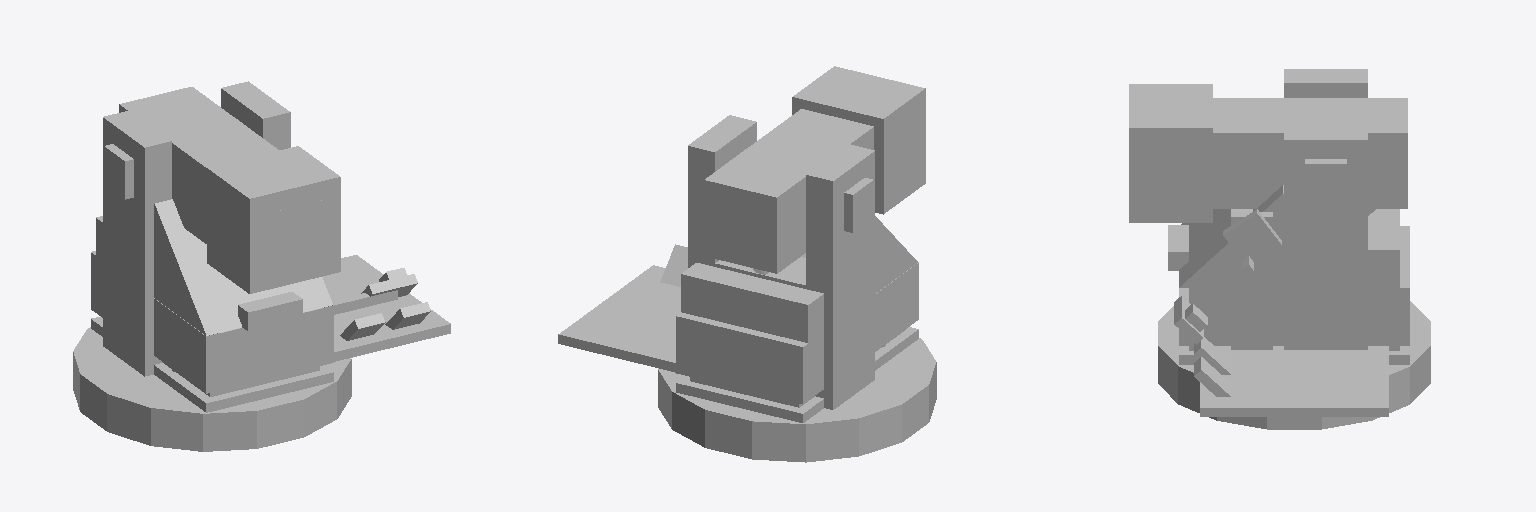
Rendered from spotlight.obj.
3 views of the same model, side by side, from view 1: azimuth 30°, elevation 25°; view 2: azimuth 150°, elevation 25°; view 3: azimuth 270°, elevation 25° (orthographic).
Visible parts, largest first — view 1: turret, $barrel, &light, $pedal_l, $pedal_r; view 2: turret, $barrel, $pedal_l; view 3: turret, $barrel, $wheel, $pedal_l, $pedal_r.
Part boxes in pixels (left/top/right/bottom): turret: left=73, top=81, right=450, bottom=451; $barrel: left=104, top=87, right=340, bottom=293; &light: left=268, top=200, right=321, bottom=270; $pedal_l: left=385, top=302, right=430, bottom=329; $pedal_r: left=340, top=313, right=385, bottom=340; turret: left=558, top=115, right=936, bottom=462; $barrel: left=704, top=66, right=925, bottom=274; $pedal_l: left=660, top=244, right=687, bottom=286; turret: left=1158, top=69, right=1430, bottom=429; $barrel: left=1129, top=84, right=1407, bottom=222; $wheel: left=1223, top=209, right=1281, bottom=274; $pedal_l: left=1194, top=357, right=1230, bottom=396; $pedal_r: left=1194, top=337, right=1230, bottom=374.
Bounding box in the file's own units: 2.12 × 1.75 × 1.8.